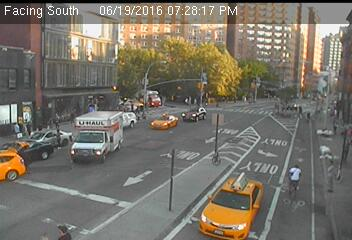neg: (278, 161, 310, 203), (264, 40, 291, 76), (211, 44, 232, 71), (256, 92, 275, 118), (114, 147, 132, 170), (148, 122, 164, 144), (257, 136, 273, 158), (69, 50, 84, 70), (193, 129, 207, 148), (32, 38, 43, 53), (231, 173, 242, 187), (119, 43, 127, 54), (149, 94, 157, 104), (176, 44, 183, 53), (91, 140, 96, 147)
pos: (314, 157, 345, 199), (51, 129, 66, 148), (328, 117, 342, 136), (8, 122, 21, 139), (50, 112, 61, 126), (23, 119, 33, 132), (295, 104, 304, 115)
